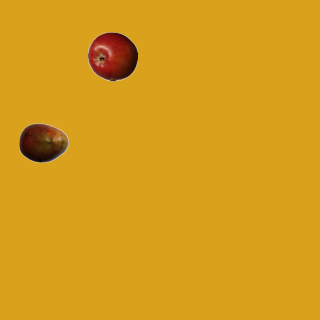Apple Braeburn: (87, 31, 137, 81)
Mango Red: (18, 117, 68, 167)
